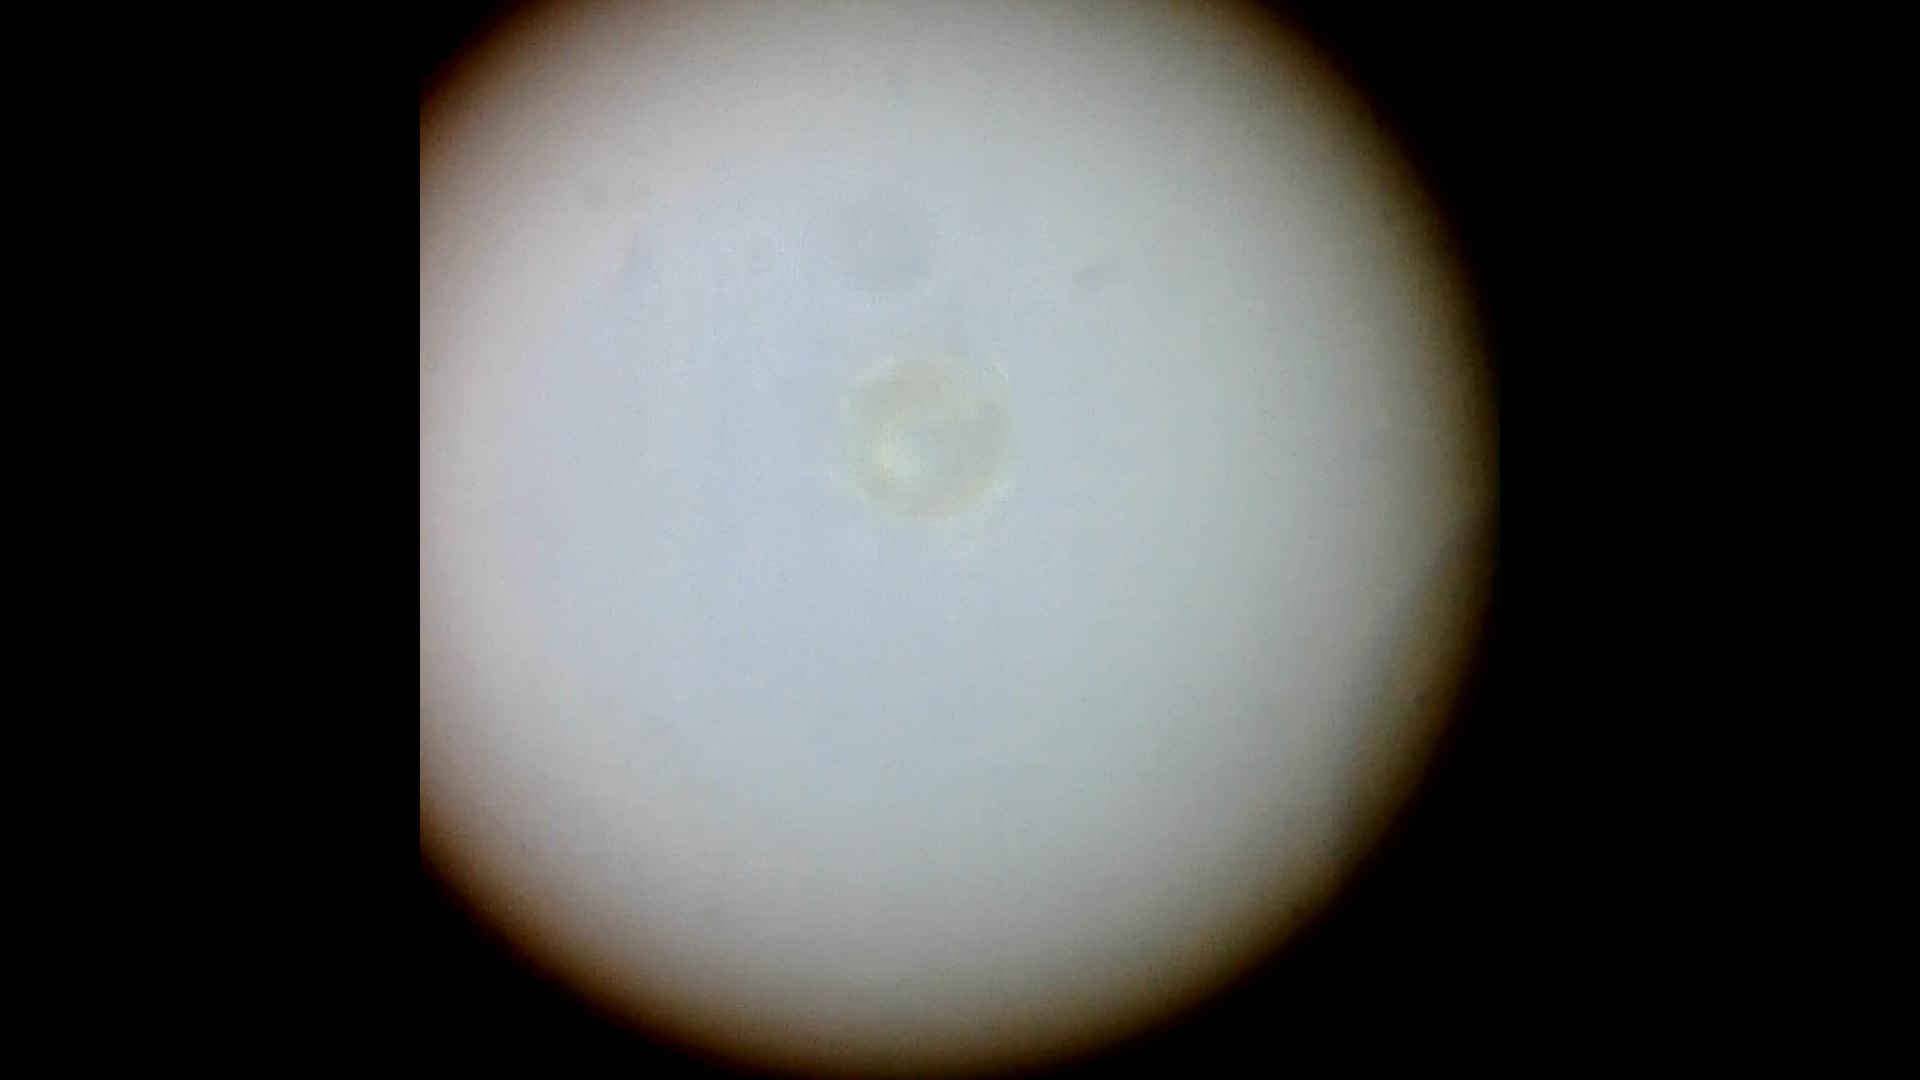alexandrium minutum: (843, 356, 1019, 520)
